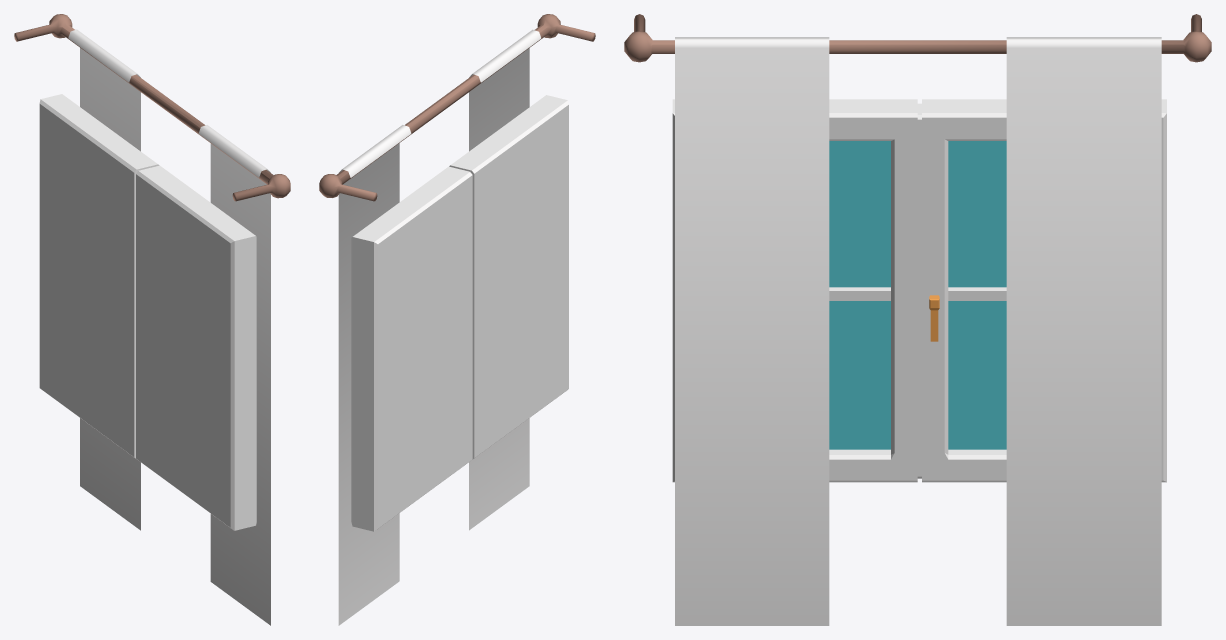
Rendered from finestra_tende.fbx.
The picture shows the model from 3 angles, left to right: view 1: azimuth 30°, elevation 25°; view 2: azimuth 150°, elevation 25°; view 3: azimuth 270°, elevation 25°; orthographic projection. The views are drawn at different scales.
Parts seen in each view (by area): view 1: Cube, Plane, Plane.001, Cylinder.003; view 2: Cube, Plane.001, Plane, Cylinder.003; view 3: Plane.001, Plane, Cube, Cylinder.003.
Boxes of the visible parts, x1=… form: Cube: x1=39, y1=94, x2=256, y2=530; Plane: x1=198, y1=125, x2=270, y2=625; Plane.001: x1=68, y1=29, x2=140, y2=530; Cylinder.003: x1=14, y1=14, x2=290, y2=201; Cube: x1=351, y1=95, x2=568, y2=531; Plane.001: x1=338, y1=125, x2=411, y2=625; Plane: x1=469, y1=29, x2=541, y2=530; Cylinder.003: x1=319, y1=14, x2=595, y2=201; Plane.001: x1=1006, y1=37, x2=1161, y2=625; Plane: x1=675, y1=37, x2=829, y2=625; Cube: x1=672, y1=99, x2=1166, y2=482; Cylinder.003: x1=624, y1=14, x2=1211, y2=62.
Bounding box in the file's own units: 54.98 × 444 × 401.
